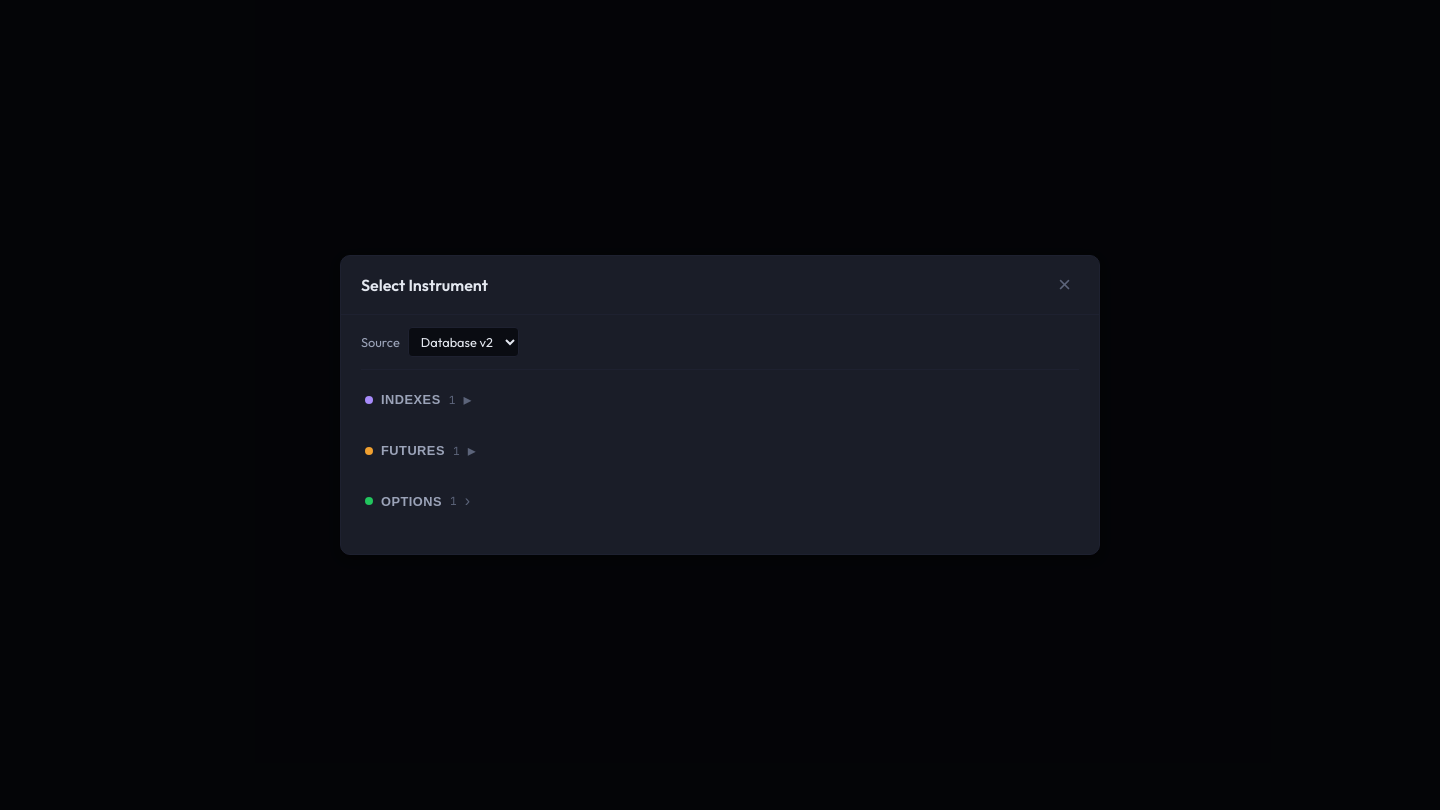
Test: <InstrumentPickerModal> source-aware catalog › v2: loads ONLY the v2 catalog — no VIX index, no FUT_VIX, no forex
Click the text "Indexes" at point(411, 400), box x1=381 y1=392 x2=441 y2=407
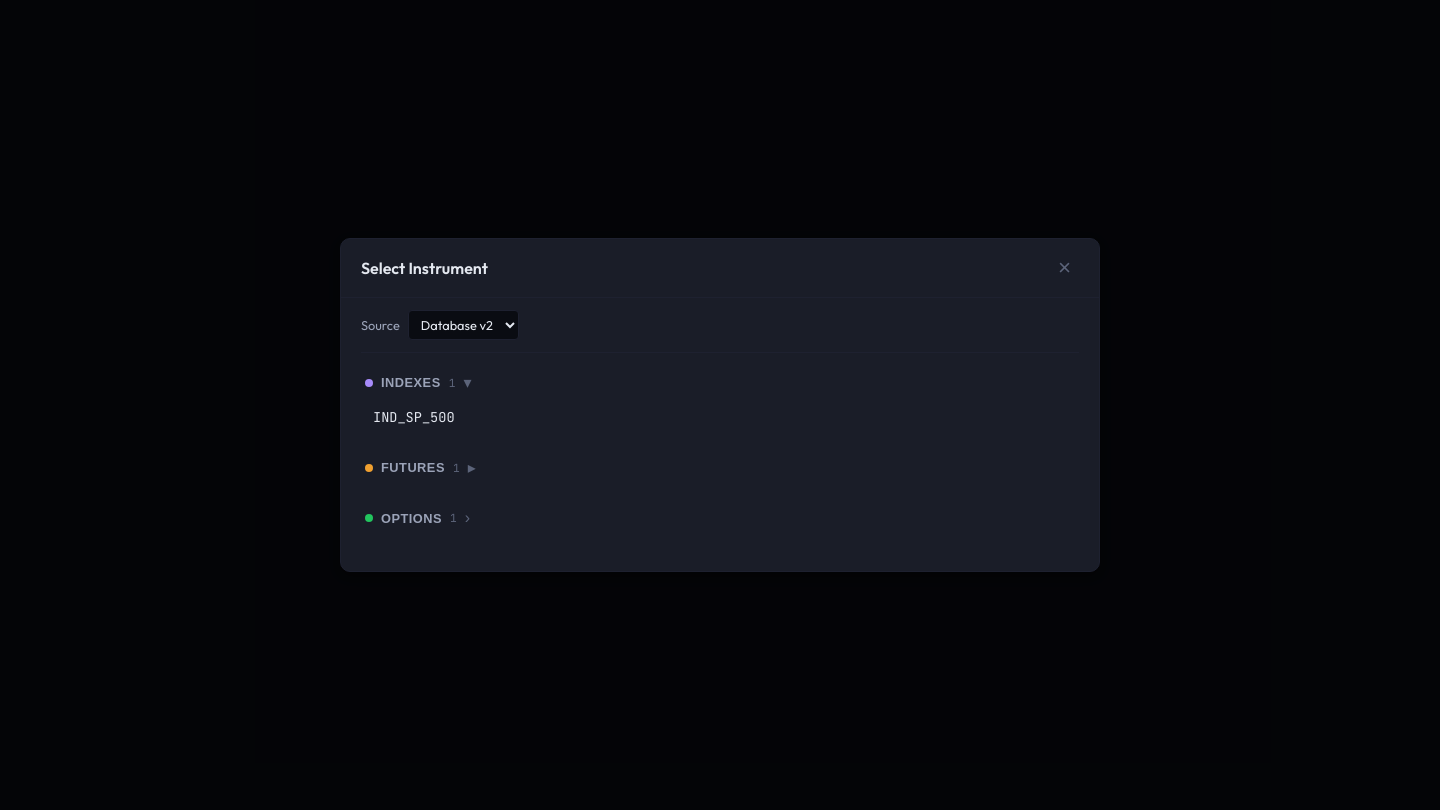
Expected: the text "IND_SP_500" is shown, x1=373 y1=408 x2=455 y2=426
Click the text "Futures" at point(413, 468), box x1=381 y1=460 x2=445 y2=475
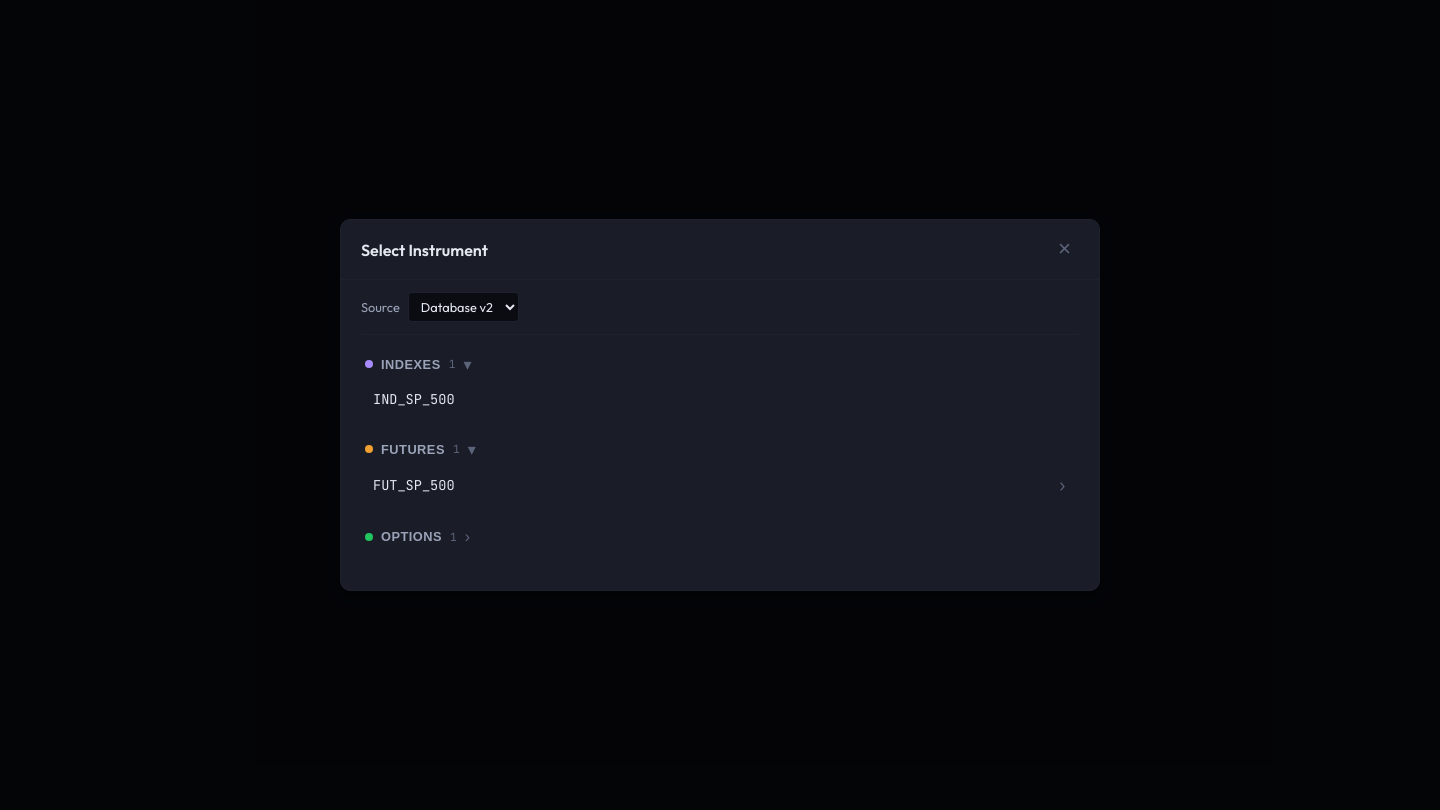
Expected: the text "FUT_SP_500" is shown, x1=373 y1=476 x2=455 y2=494
